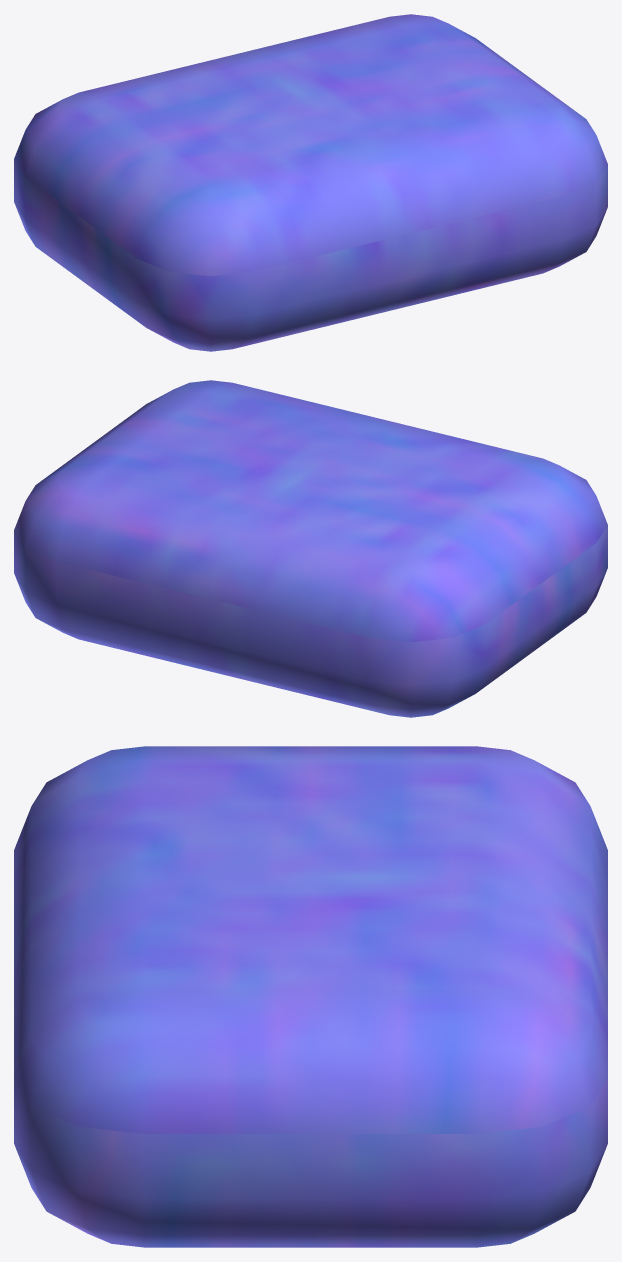
File: Soap_02.FBX
The picture shows the model from 3 angles, top to bottom: view 1: azimuth 30°, elevation 25°; view 2: azimuth 150°, elevation 25°; view 3: azimuth 270°, elevation 25°; orthographic projection. The views are drawn at different scales.
Visible parts, largest first — view 1: Soap_02; view 2: Soap_02; view 3: Soap_02.
Boxes of the visible parts, left/top/right/bottom form: Soap_02: left=14, top=14, right=607, bottom=351; Soap_02: left=14, top=380, right=607, bottom=717; Soap_02: left=14, top=746, right=607, bottom=1247.
Bounding box in the file's own units: 10.13 × 7.51 × 3.36.
